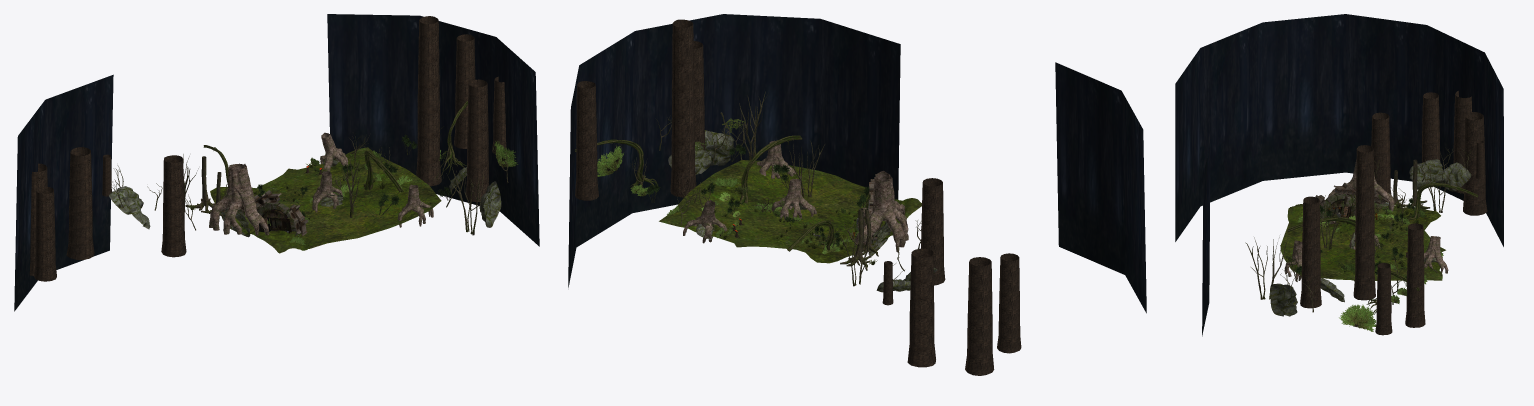
File: env_khofar_kelnaccas_hut_pre.glb
The picture shows the model from 3 angles, left to right: view 1: azimuth 30°, elevation 25°; view 2: azimuth 150°, elevation 25°; view 3: azimuth 270°, elevation 25°; orthographic projection. The views are drawn at different scales.
Parts seen in each view (by area): view 1: kho_kelnacca_skybox_forest (×2), kho_kelnacca_ground, end_tree_trunk_bg (2) (×2), end_tree_trunk_bg, end_tree_trunk_bg (3) (×2), kho_kelnacca_hut_tree (1) (×2), end_tree_trunk_bg (1), end_tree_trunk_bg (9), kho_kelnaccas_shetler, end_tree_trunk_bg (8), end_rock_wall (5), kho_kelnacca_hut_tree (4) (+4 smaller); view 2: kho_kelnacca_skybox_forest (×2), kho_kelnacca_ground, end_tree_trunk_bg (2) (×2), end_tree_trunk_bg, end_tree_trunk_bg (8), kho_kelnacca_hut_tree (1) (×2), end_tree_trunk_bg (3), end_tree_trunk_bg (9), end_tree_trunk_bg (1), kho_kelnacca_hut_tree (3), end_rock_wall (5), kho_kelnacca_hut_tree (4) (+4 smaller); view 3: kho_kelnacca_skybox_forest (×2), kho_kelnacca_ground, end_tree_trunk_bg (2) (×2), end_tree_trunk_bg, end_tree_trunk_bg (3) (×2), end_tree_trunk_bg (1), end_tree_trunk_bg (9), end_tree_trunk_bg (8), kho_kelnacca_hut_tree (1) (×2), end_rock_wall (5), tak_mazcastle_bushes (17), end_rock_wall (3) (+7 smaller).
Part boxes in pixels (x1,y1,x2,y2): kho_kelnacca_skybox_forest (×2): [14, 14, 539, 311]; kho_kelnacca_ground: [210, 147, 441, 253]; end_tree_trunk_bg (2) (×2): [66, 34, 475, 259]; end_tree_trunk_bg: [416, 16, 441, 186]; end_tree_trunk_bg (3) (×2): [33, 76, 506, 281]; kho_kelnacca_hut_tree (1) (×2): [209, 132, 348, 235]; end_tree_trunk_bg (1): [465, 79, 489, 202]; end_tree_trunk_bg (9): [161, 155, 186, 257]; kho_kelnaccas_shetler: [237, 202, 297, 236]; end_tree_trunk_bg (8): [29, 163, 47, 275]; end_rock_wall (5): [480, 181, 501, 227]; kho_kelnacca_hut_tree (4): [397, 184, 433, 227]; kho_kelnacca_skybox_forest (×2): [568, 14, 1146, 313]; kho_kelnacca_ground: [659, 160, 921, 263]; end_tree_trunk_bg (2) (×2): [575, 81, 935, 367]; end_tree_trunk_bg: [670, 19, 696, 197]; end_tree_trunk_bg (8): [965, 257, 994, 375]; kho_kelnacca_hut_tree (1) (×2): [683, 171, 908, 252]; end_tree_trunk_bg (3): [997, 253, 1021, 353]; end_tree_trunk_bg (9): [921, 178, 945, 285]; end_tree_trunk_bg (1): [693, 41, 705, 150]; kho_kelnacca_hut_tree (3): [772, 178, 816, 220]; end_rock_wall (5): [704, 130, 733, 165]; kho_kelnacca_hut_tree (4): [757, 140, 795, 178]; kho_kelnacca_skybox_forest (×2): [1175, 14, 1503, 336]; kho_kelnacca_ground: [1280, 204, 1445, 280]; end_tree_trunk_bg (2) (×2): [1405, 112, 1487, 327]; end_tree_trunk_bg: [1353, 145, 1375, 300]; end_tree_trunk_bg (3) (×2): [1375, 92, 1440, 335]; end_tree_trunk_bg (1): [1300, 196, 1321, 308]; end_tree_trunk_bg (9): [1371, 112, 1391, 194]; end_tree_trunk_bg (8): [1453, 90, 1471, 193]; kho_kelnacca_hut_tree (1) (×2): [1328, 159, 1448, 273]; end_rock_wall (5): [1269, 283, 1297, 316]; tak_mazcastle_bushes (17): [1339, 304, 1376, 331]; end_rock_wall (3): [1409, 159, 1445, 189].
Size of the model in its own units: 156 by 67.96 by 102.
Materials: 25 (25 with a texture image).
